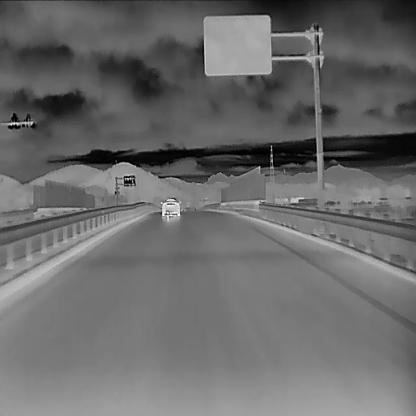car: (159, 195, 181, 215)
